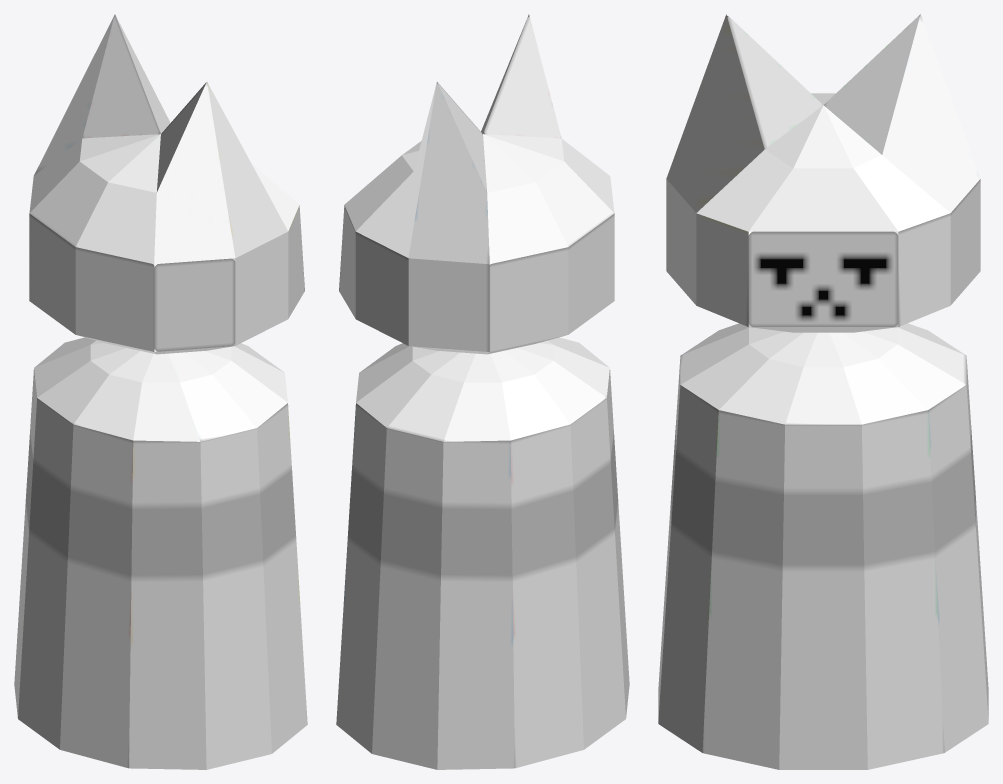
The model's file is NPC 4.obj.
3 views of the same model, side by side, from view 1: azimuth 30°, elevation 25°; view 2: azimuth 150°, elevation 25°; view 3: azimuth 270°, elevation 25° (orthographic). The views are drawn at different scales.
Visible parts, largest first — view 1: sphere; view 2: sphere; view 3: sphere.
Part boxes in pixels (x1,y1,x2,y2): sphere: (14,14,307,769); sphere: (336,14,629,769); sphere: (658,14,988,769).
Size of the model in its own units: 0.2812 by 0.7233 by 0.3125.
1 material, 1 textured.
